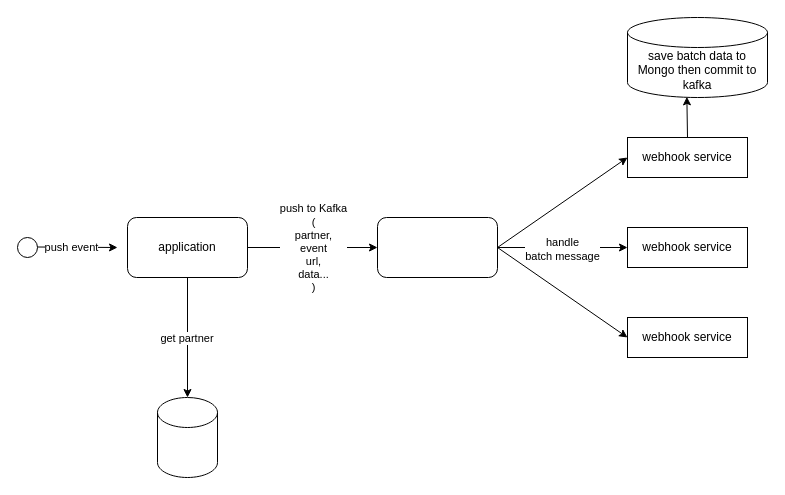
The diagram is 785 pixels wide and 495 high, and some of its shapes have lost their labels. The shapes that lost their labels are listed below. From the top down, each one's box as (x1, y1, x2, y2) in pixels, then its label:
(376, 216, 498, 278): Kafka
(156, 396, 218, 478): cache/DB
